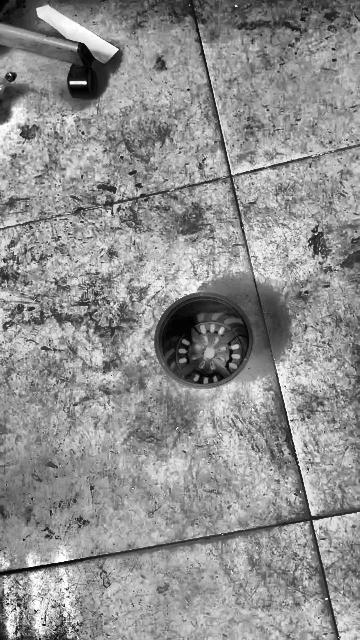pot: (155, 293, 253, 389)
